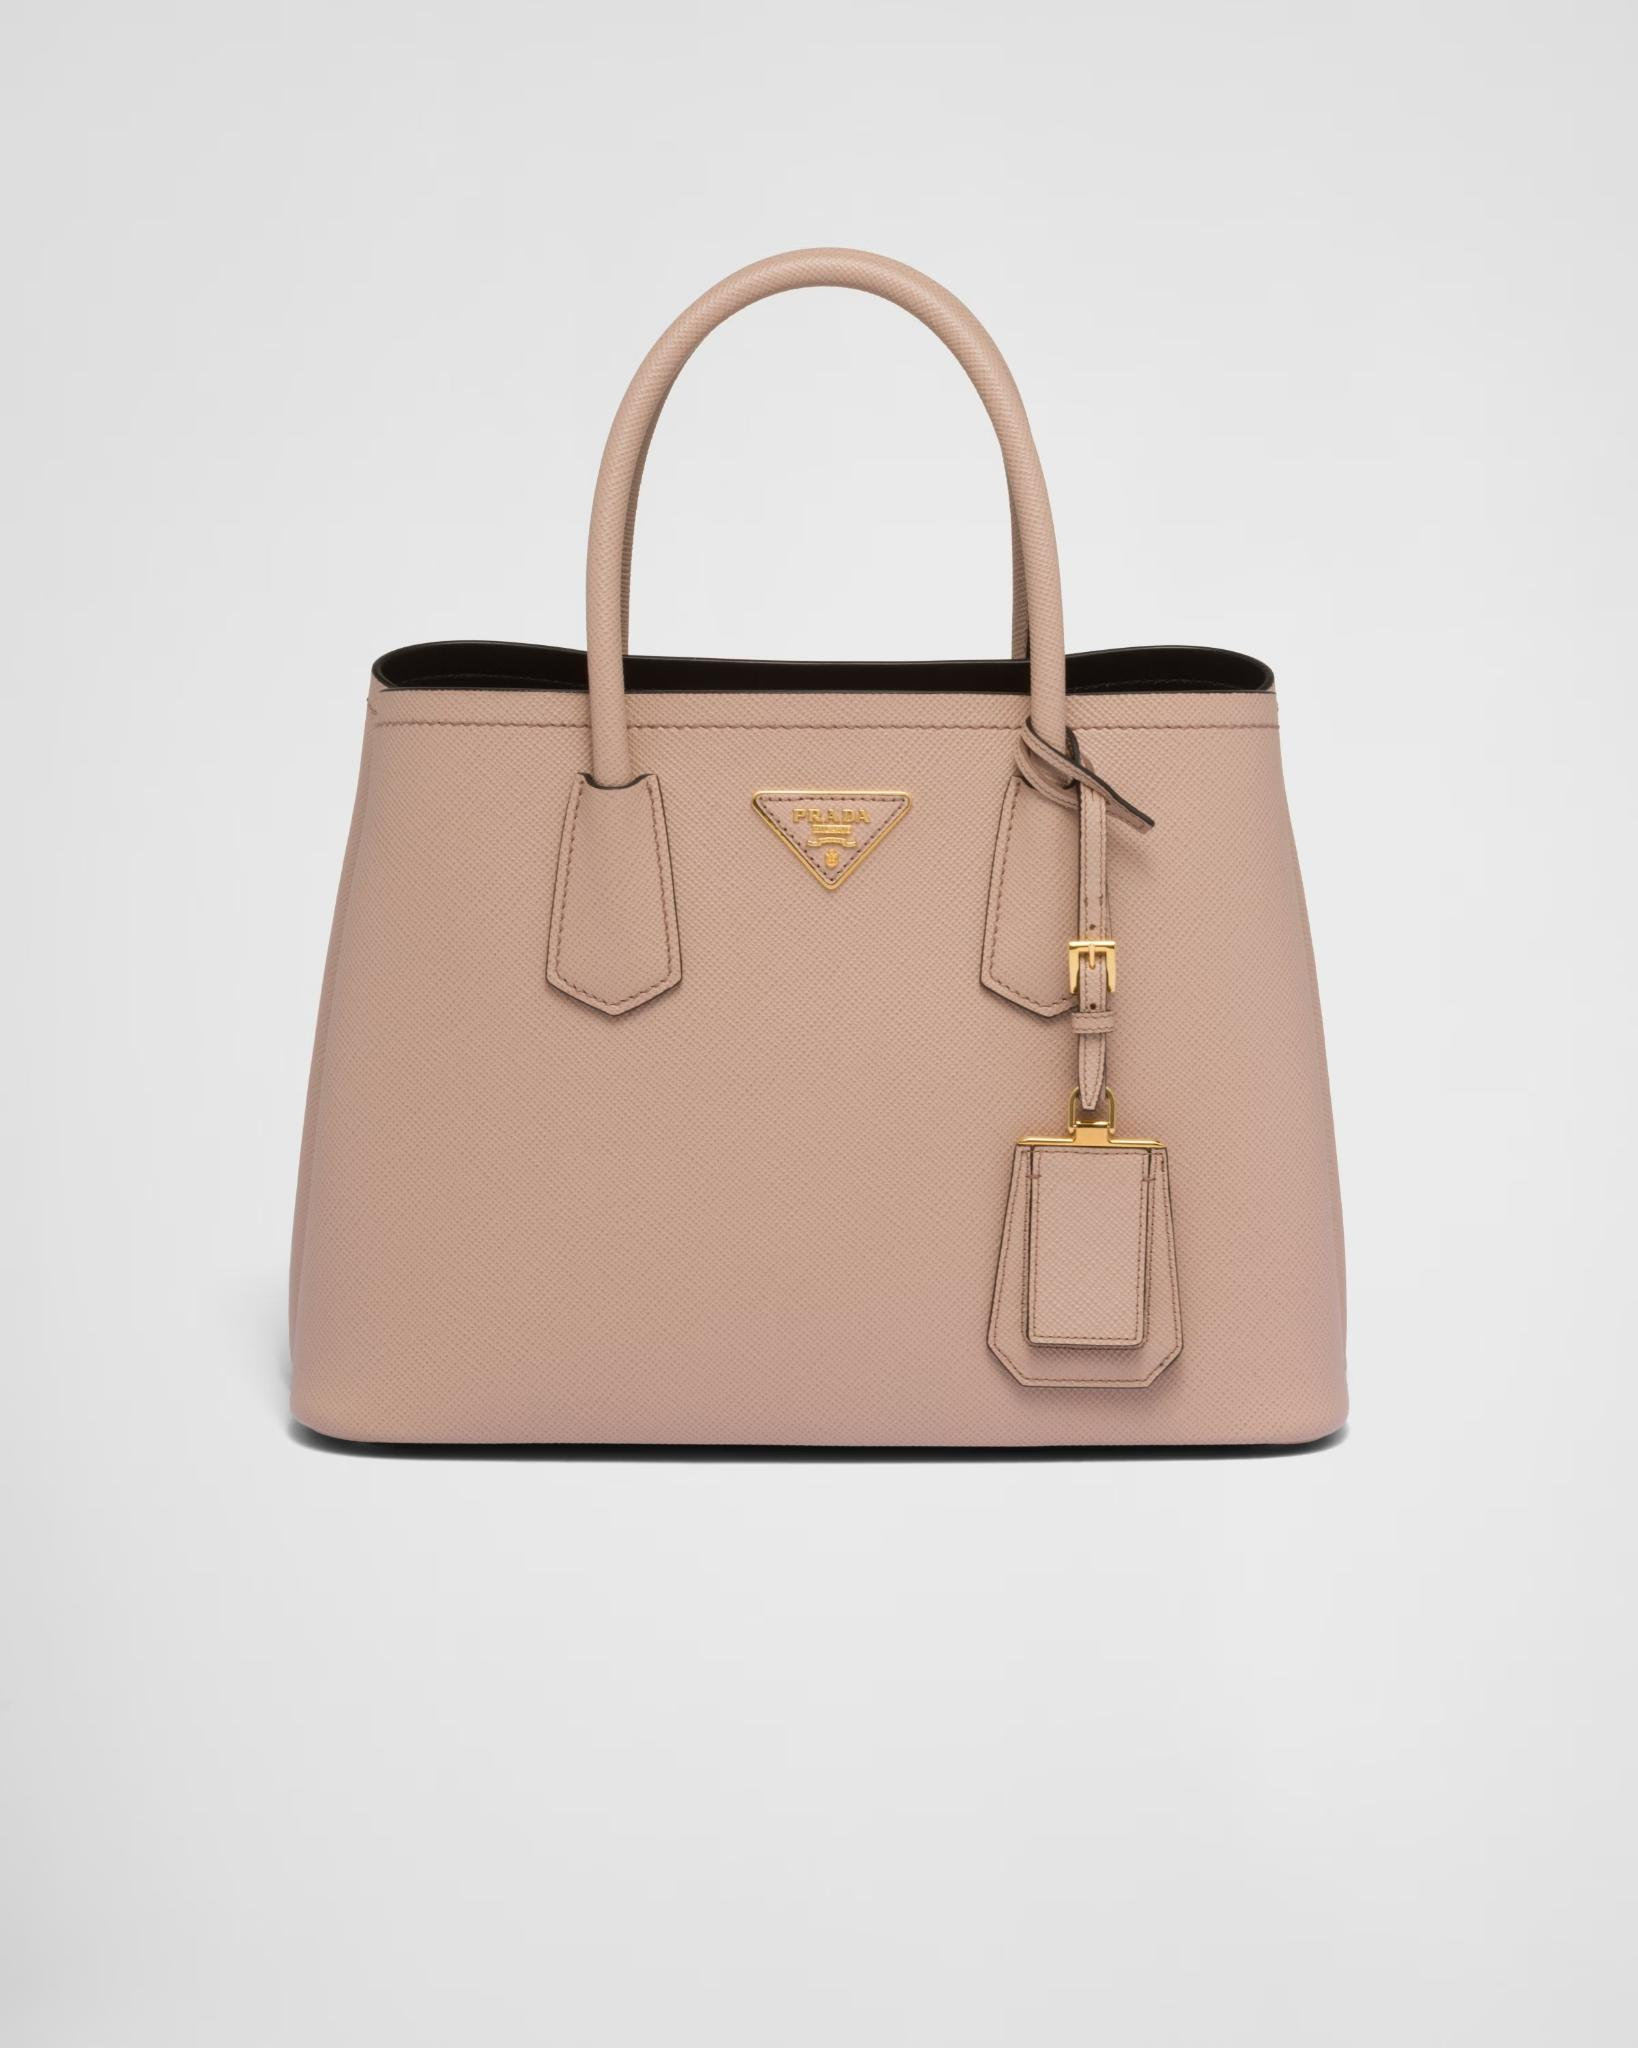PRADA: (755, 792, 909, 883)
